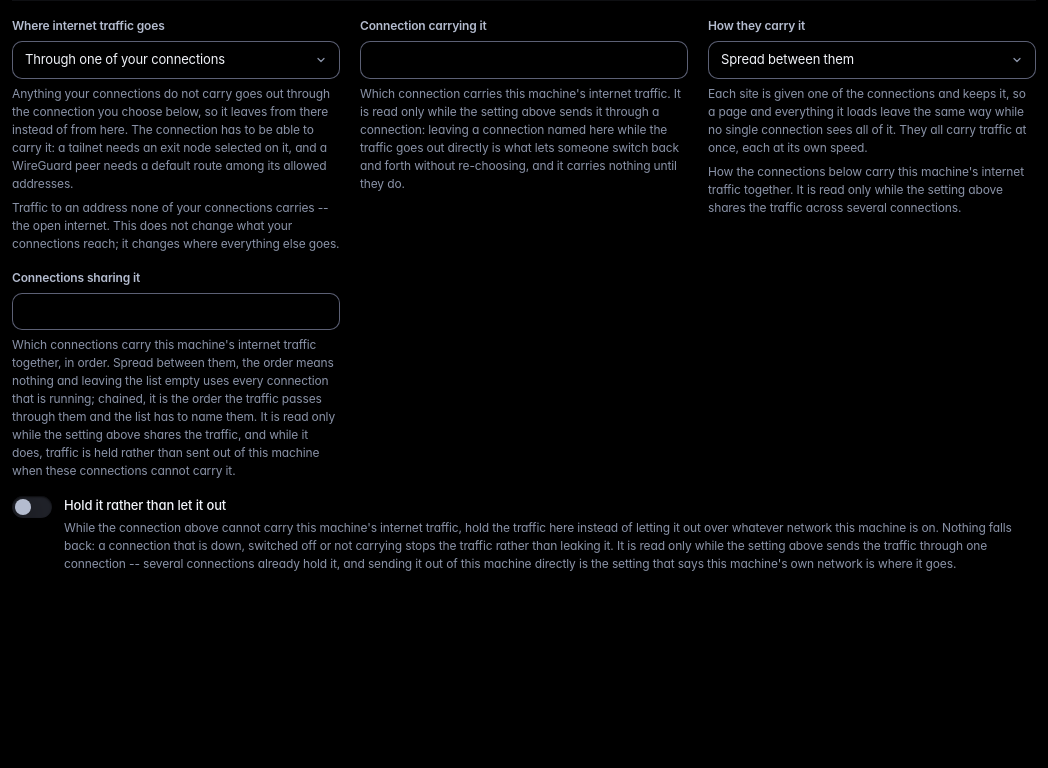
Test: when a control applies › holds an unfilled reference picker until Save
This screenshot has width=1048, height=768.
Type "tn_typed" into the field labelled "Connection carrying it" at (524,60), box top-left (360, 41), bottom-right (688, 78)
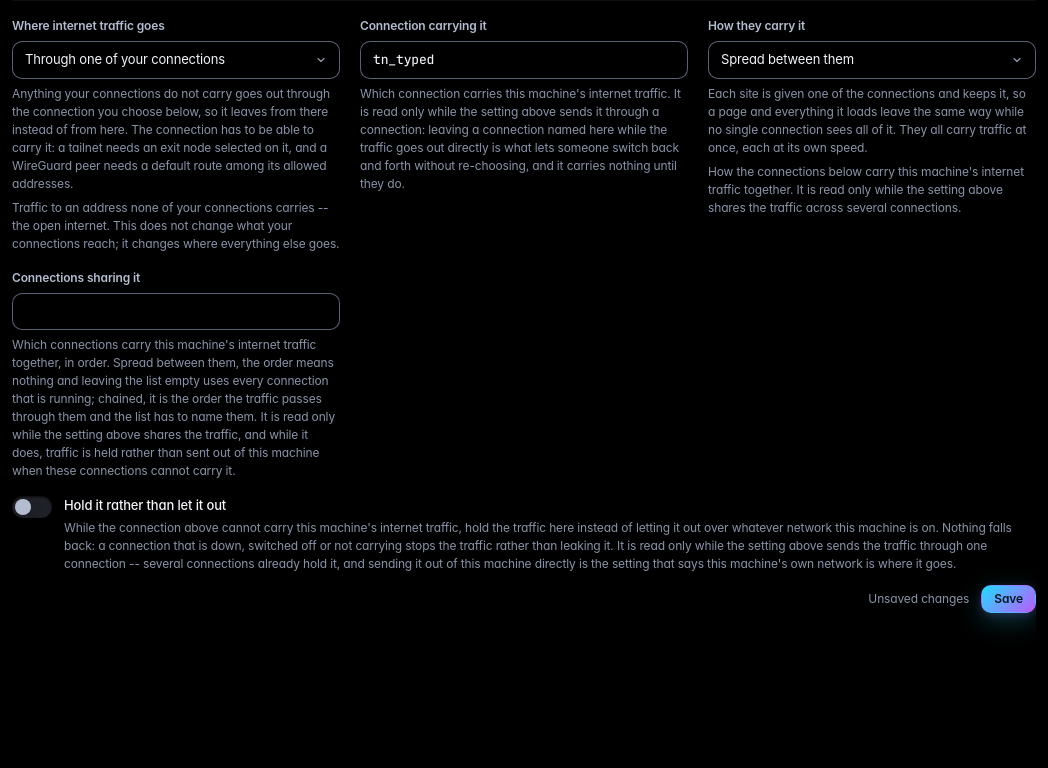
Expected: the button "Save" is shown, top-left (981, 584), bottom-right (1036, 612)
